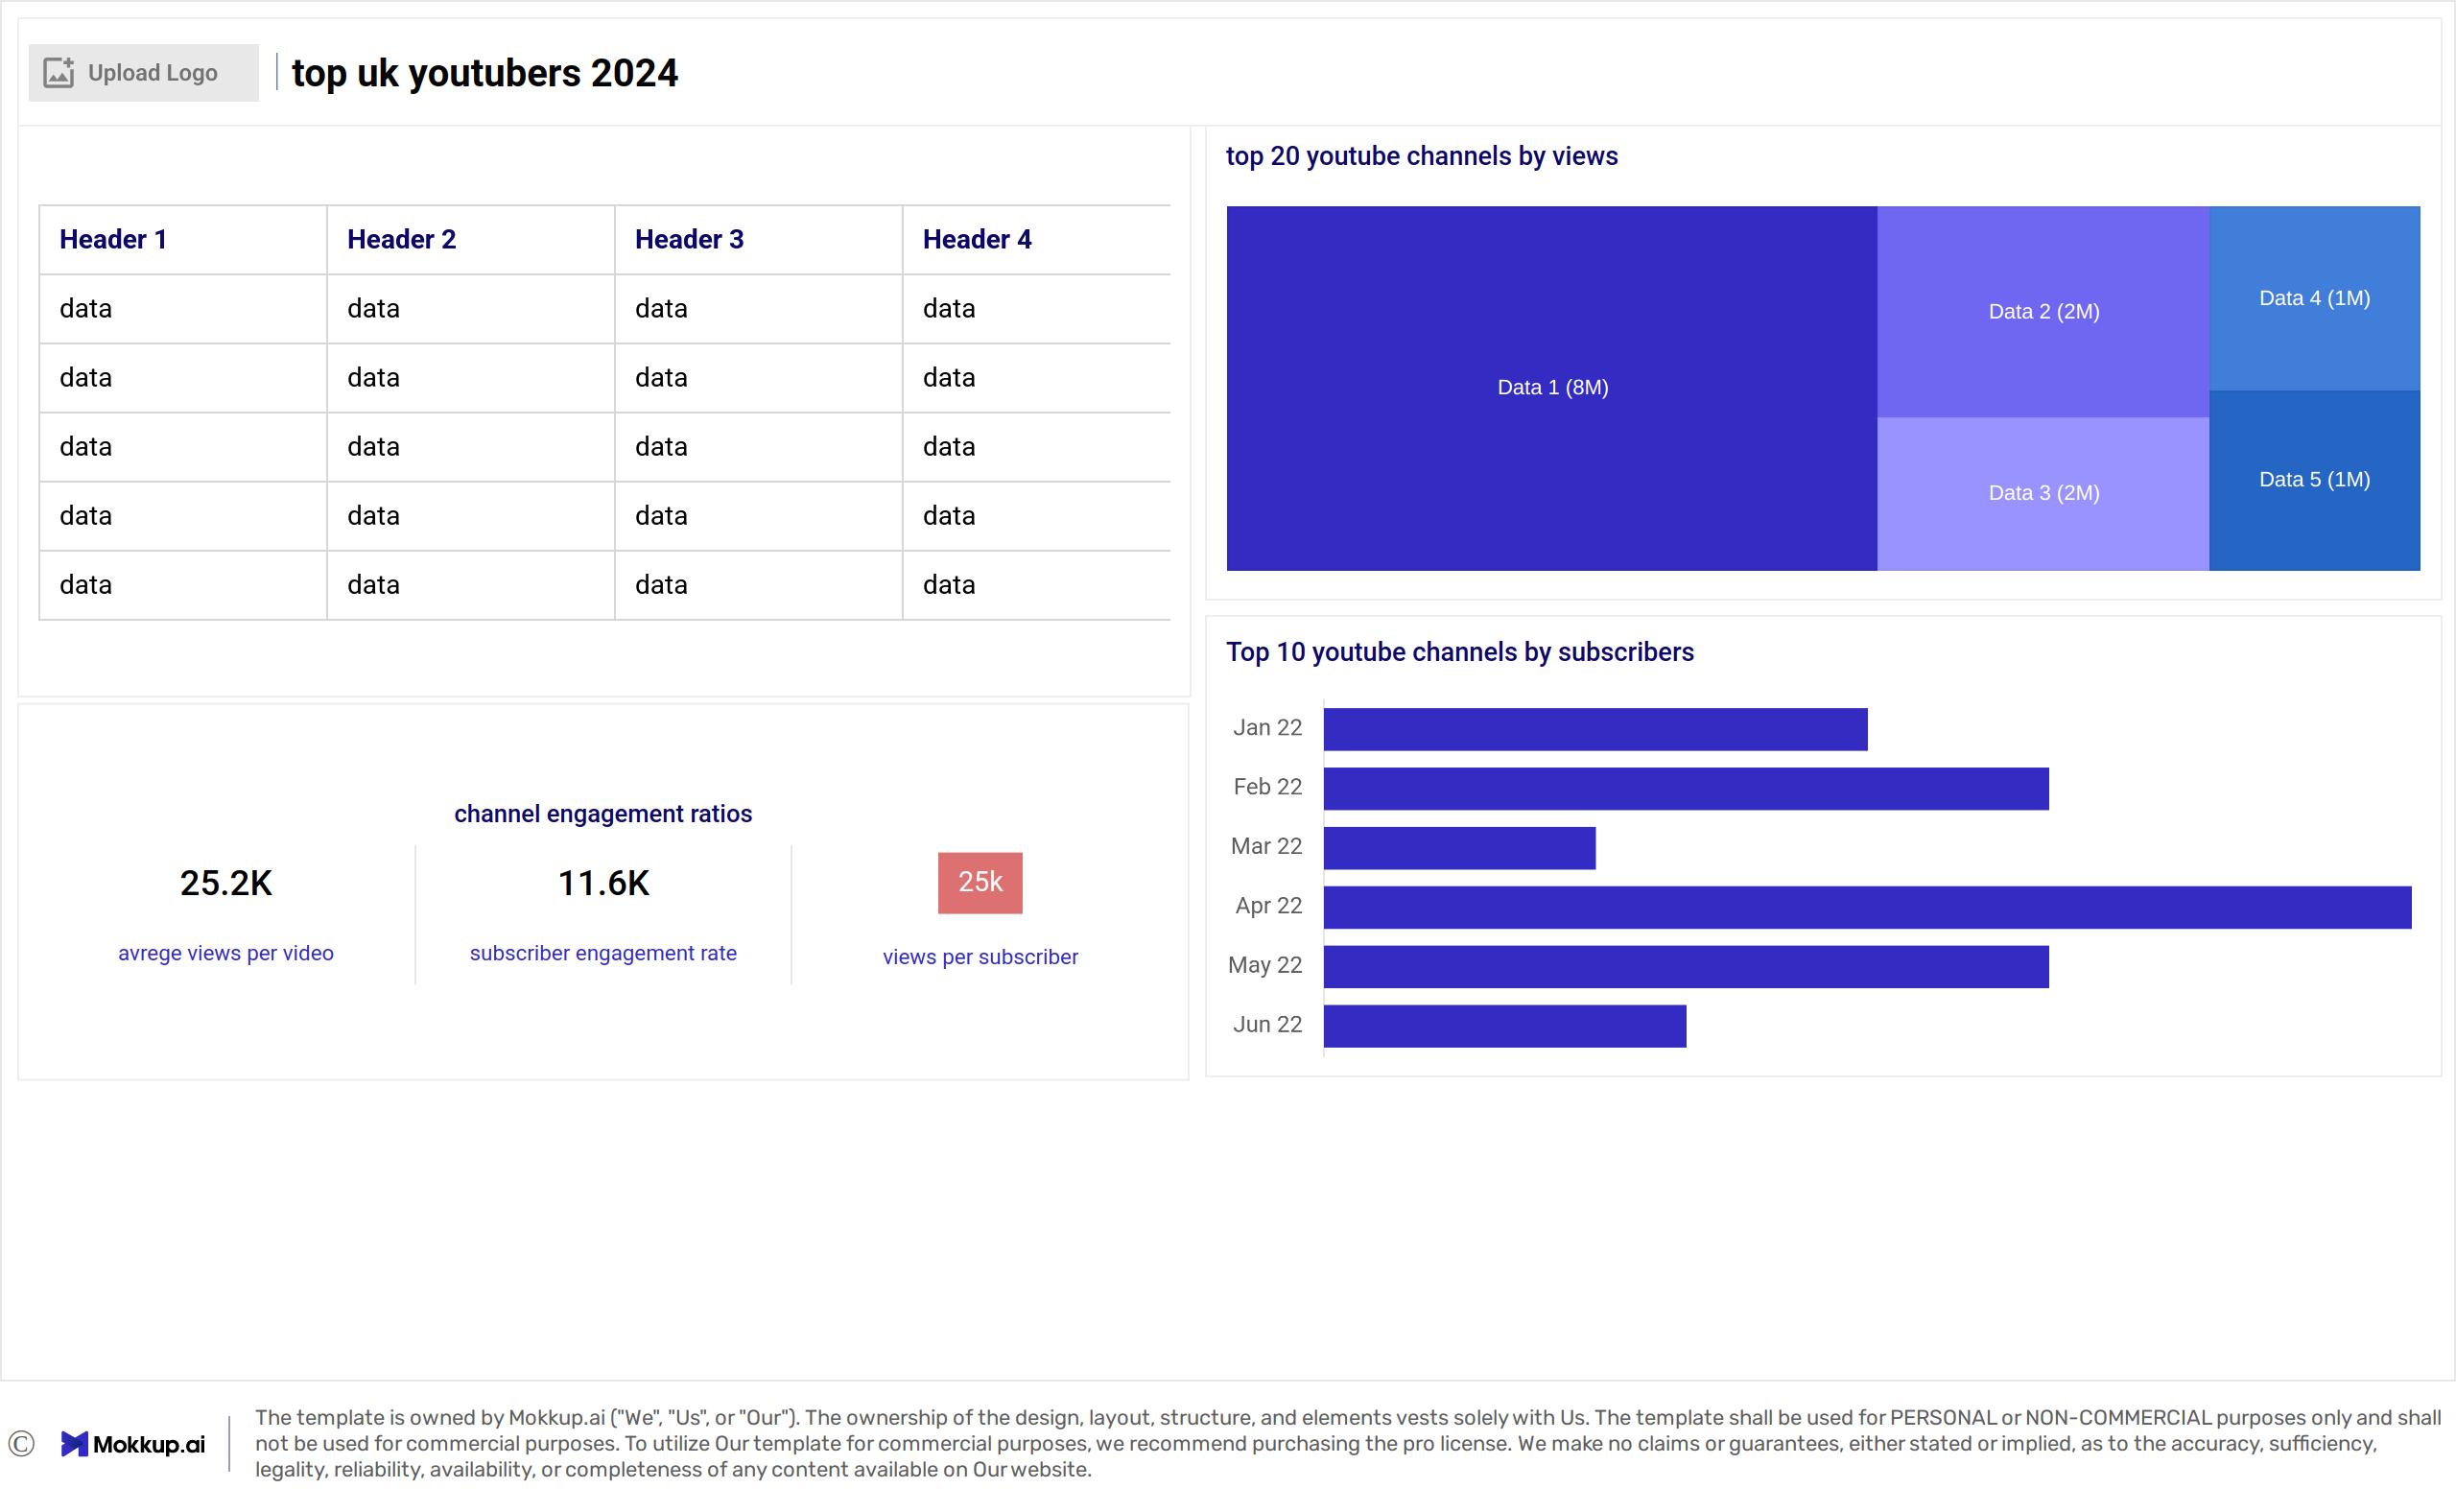

What the dashboard file says about the page in this screenshot:
{"tool":"powerbi","page":{"name":"Page 1","canvas":[1280,720],"ordinal":0},"visuals":[{"type":"textbox","box":[318.4,0,569.5,96.1],"z":0},{"type":"tableEx","fields":{"Values":["view_uk_youtubers_2024.channel_name","view_uk_youtubers_2024.total_subscribers(M)","view_uk_youtubers_2024.total videos","view_uk_youtubers_2024.total views (B)"]},"box":[16.5,57.6,603.8,343.1],"z":1000},{"type":"treemap","title":"Top 10 Youtubers by views","fields":{"Group":["view_uk_youtubers_2024.channel_name"],"Values":["view_uk_youtubers_2024.total views (B)"]},"box":[620.2,57.6,603.8,343.1],"z":2000},{"type":"card","fields":{"Values":["view_uk_youtubers_2024.avg views per video (M)"]},"box":[16.5,452.8,192.1,267.6],"z":3000},{"type":"card","fields":{"Values":["view_uk_youtubers_2024.subscriber engagement rate"]},"box":[208.6,452.8,189.4,267.6],"z":4000},{"type":"card","fields":{"Values":["view_uk_youtubers_2024.views per subscriber"]},"box":[397.9,452.8,205.8,267.6],"z":5000},{"type":"clusteredBarChart","title":"top 10 youtubers by subscribers","fields":{"Category":["view_uk_youtubers_2024.channel_name"],"Y":["view_uk_youtubers_2024.total_subscribers(M)"]},"box":[620,412,604,308],"z":5001},{"type":"textbox","box":[153.7,452.8,299.1,53.5],"z":5002}]}

Visuals, with their boxes in screenshot pixels (x1, y1, x2, y2):
textbox: <box>631,19,1748,208</box>
tableEx - view_uk_youtubers_2024.channel_name x view_uk_youtubers_2024.total_subscribers(M): <box>38,132,1223,805</box>
"Top 10 Youtubers by views" treemap: <box>1223,132,2408,805</box>
card - view_uk_youtubers_2024.avg views per video (M): <box>38,908,415,1432</box>
card - view_uk_youtubers_2024.subscriber engagement rate: <box>415,908,788,1432</box>
card - view_uk_youtubers_2024.views per subscriber: <box>787,908,1191,1432</box>
"top 10 youtubers by subscribers" clusteredBarChart: <box>1222,827,2408,1431</box>
textbox: <box>308,908,895,1012</box>
